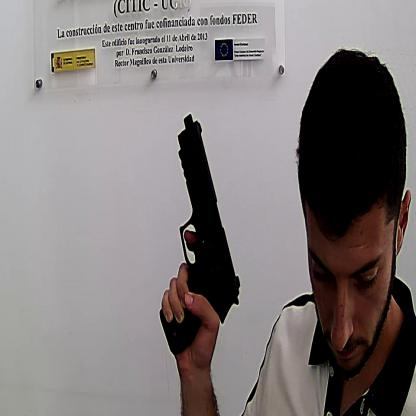gun: (158, 111, 242, 357)
